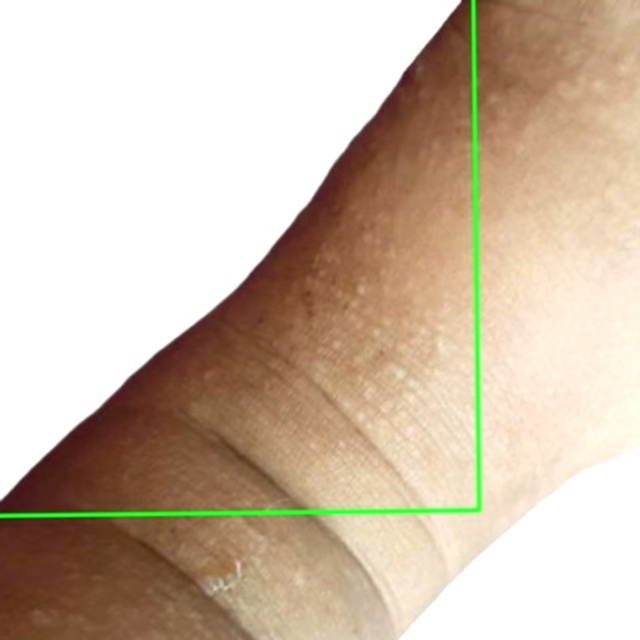Scabies: (0, 0, 479, 515)
